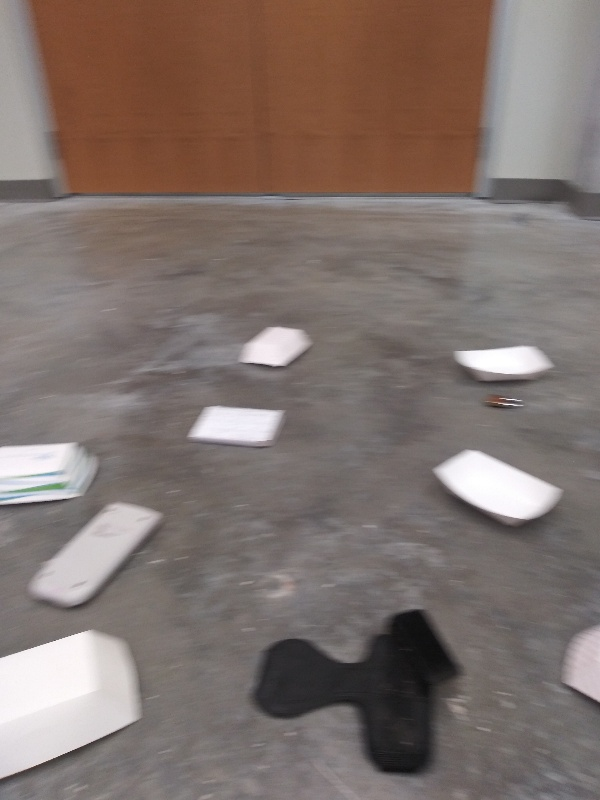plate: (1, 626, 146, 789), (429, 443, 567, 531), (1, 437, 103, 514), (446, 342, 560, 387), (556, 621, 600, 715), (236, 324, 317, 375)
